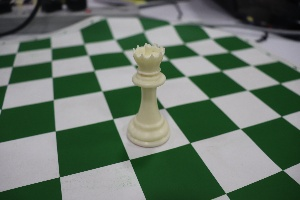white_queen: (120, 33, 173, 150)
